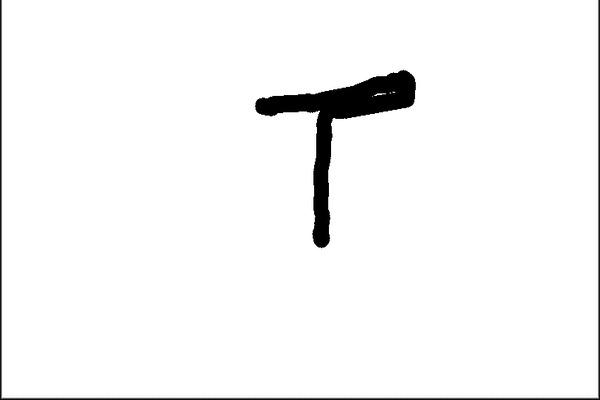T: (254, 67, 422, 249)
